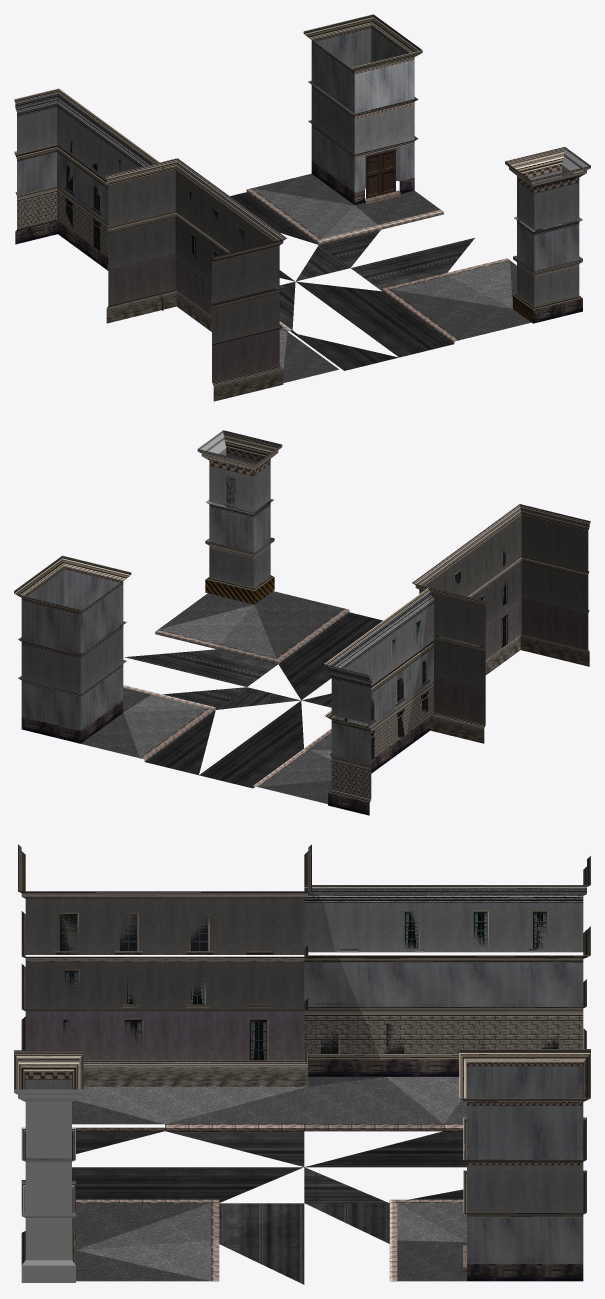
The model's file is primary_144.glb.
3 views of the same model, one above another, from view 1: azimuth 30°, elevation 25°; view 2: azimuth 150°, elevation 25°; view 3: azimuth 270°, elevation 25° (orthographic). The views are drawn at different scales.
Parts seen in each view (by area): view 1: Object; view 2: Object; view 3: Object.
Part boxes in pixels (box(x1,y1,x2,y2)): Object: box(14, 14, 590, 401); Object: box(14, 430, 590, 815); Object: box(14, 844, 590, 1284).
Size of the model in its own units: 31.1 by 11.84 by 30.9.
215 materials, 215 textured.
